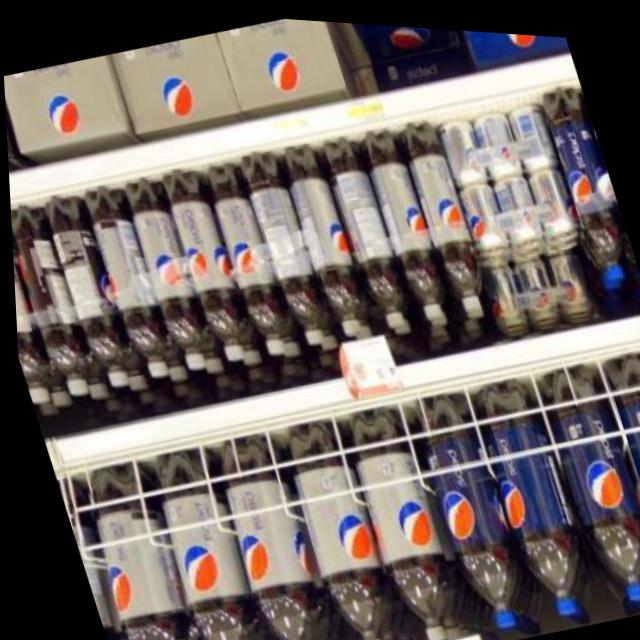Drinks: (460, 364, 594, 617), (400, 378, 534, 630), (331, 395, 463, 640), (267, 408, 401, 640), (197, 421, 333, 640), (131, 436, 274, 640), (528, 349, 640, 601), (64, 452, 209, 640), (36, 186, 137, 391), (154, 159, 253, 363), (272, 134, 371, 337), (115, 169, 213, 373), (76, 176, 174, 380), (233, 141, 330, 345), (354, 117, 451, 318), (536, 73, 632, 276), (315, 127, 412, 325), (392, 109, 488, 309), (198, 153, 292, 356), (8, 197, 96, 401), (2, 46, 133, 164), (106, 23, 239, 139), (211, 11, 349, 116), (593, 331, 640, 582), (576, 80, 638, 267), (8, 205, 53, 403), (337, 18, 468, 67), (523, 154, 582, 240), (451, 24, 569, 66), (488, 163, 546, 246), (454, 171, 511, 253), (466, 96, 522, 175), (503, 88, 559, 166), (432, 103, 487, 181), (539, 238, 595, 314), (507, 245, 560, 320), (474, 252, 527, 327)
